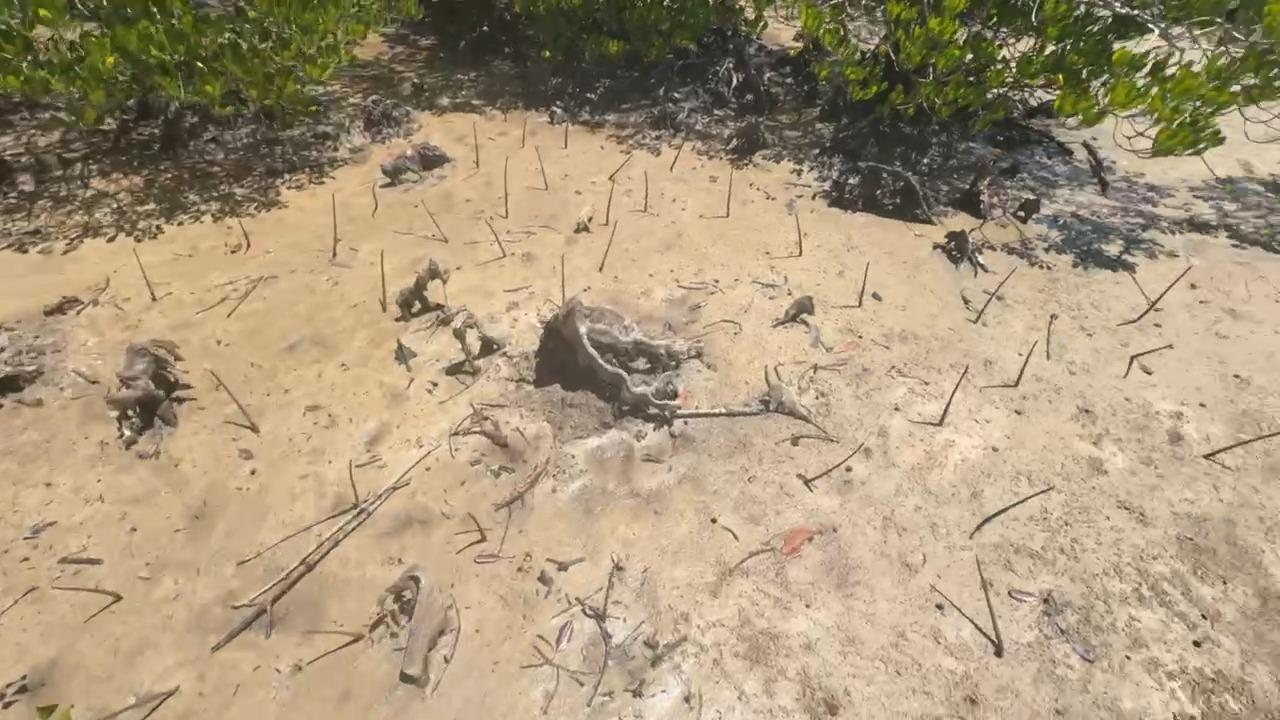Tree: (210, 368, 261, 435), (1137, 266, 1192, 322), (975, 555, 1003, 653), (803, 441, 865, 482), (973, 266, 1017, 323), (1204, 431, 1280, 457), (938, 364, 970, 425), (132, 247, 157, 301), (421, 198, 449, 243), (670, 123, 695, 171), (51, 585, 123, 601), (1014, 339, 1038, 387), (602, 565, 619, 623), (483, 217, 506, 258), (599, 221, 617, 271), (302, 630, 366, 641), (534, 145, 549, 190), (467, 511, 486, 544), (609, 154, 632, 179), (1131, 344, 1172, 358), (349, 458, 359, 506), (858, 262, 869, 304), (605, 182, 615, 225), (380, 250, 387, 310), (726, 169, 734, 219), (796, 211, 804, 257), (237, 218, 249, 245), (473, 122, 480, 168), (504, 155, 509, 217), (561, 253, 566, 308), (332, 193, 336, 259), (372, 180, 378, 216), (522, 114, 527, 149), (644, 171, 648, 212), (564, 117, 568, 148)
